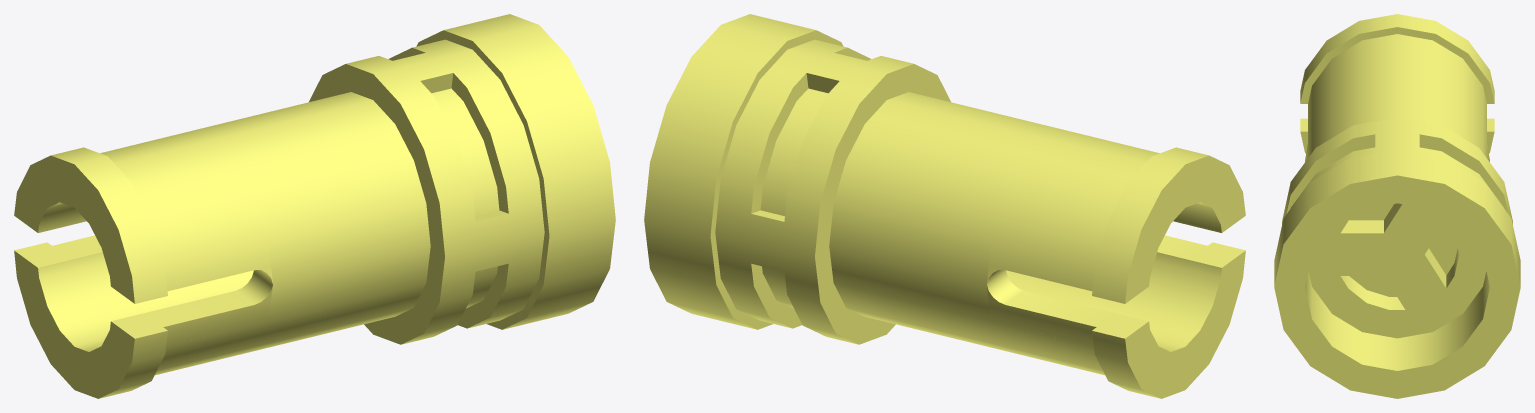
3 views of the same model, side by side, from view 1: azimuth 30°, elevation 25°; view 2: azimuth 150°, elevation 25°; view 3: azimuth 270°, elevation 25° (orthographic). The views are drawn at different scales.
Visible parts, largest first — view 1: 65826.dat; view 2: 65826.dat; view 3: 65826.dat.
Part boxes in pixels (x1=…): 65826.dat: x1=14, y1=14, x2=615, y2=398; 65826.dat: x1=644, y1=14, x2=1245, y2=398; 65826.dat: x1=1274, y1=14, x2=1520, y2=398.
Size of the model in its own units: 0.0112 by 0.0064 by 0.0064.
